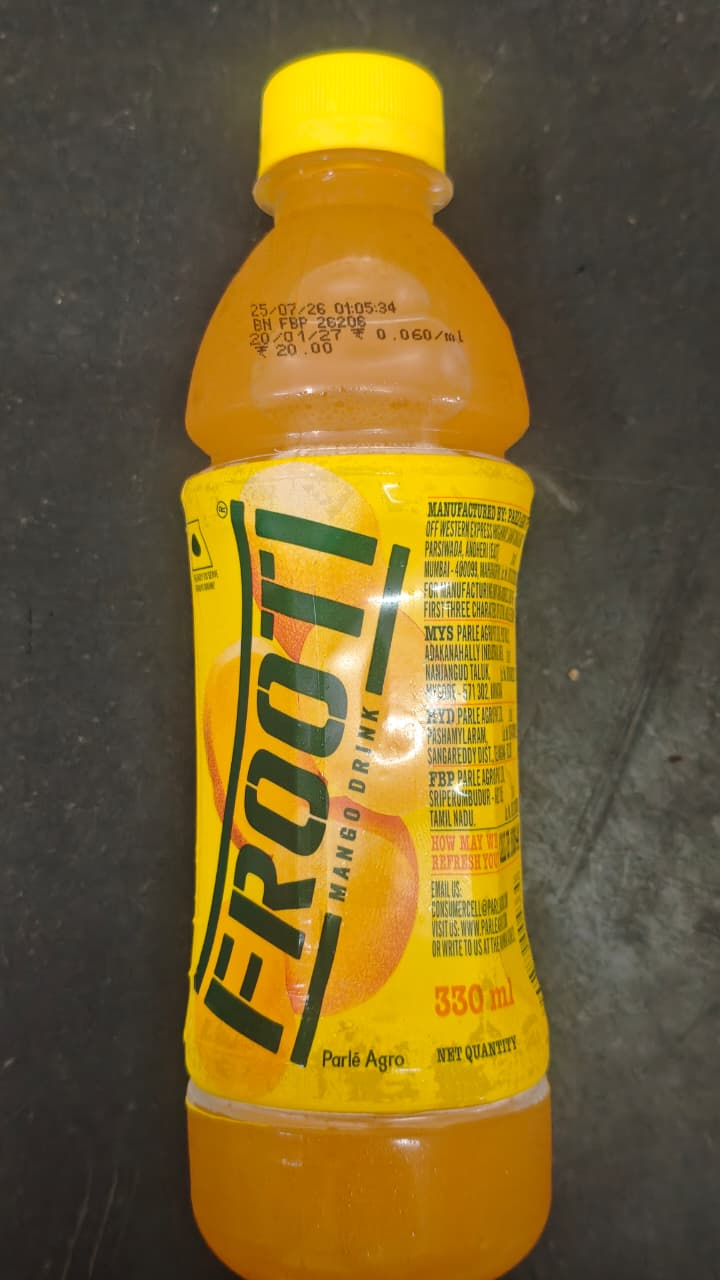Brand: (221, 485, 395, 1067)
EXP_Date: (245, 328, 344, 344)
MFG_Date: (248, 300, 329, 316)
MRP: (254, 344, 339, 361)
